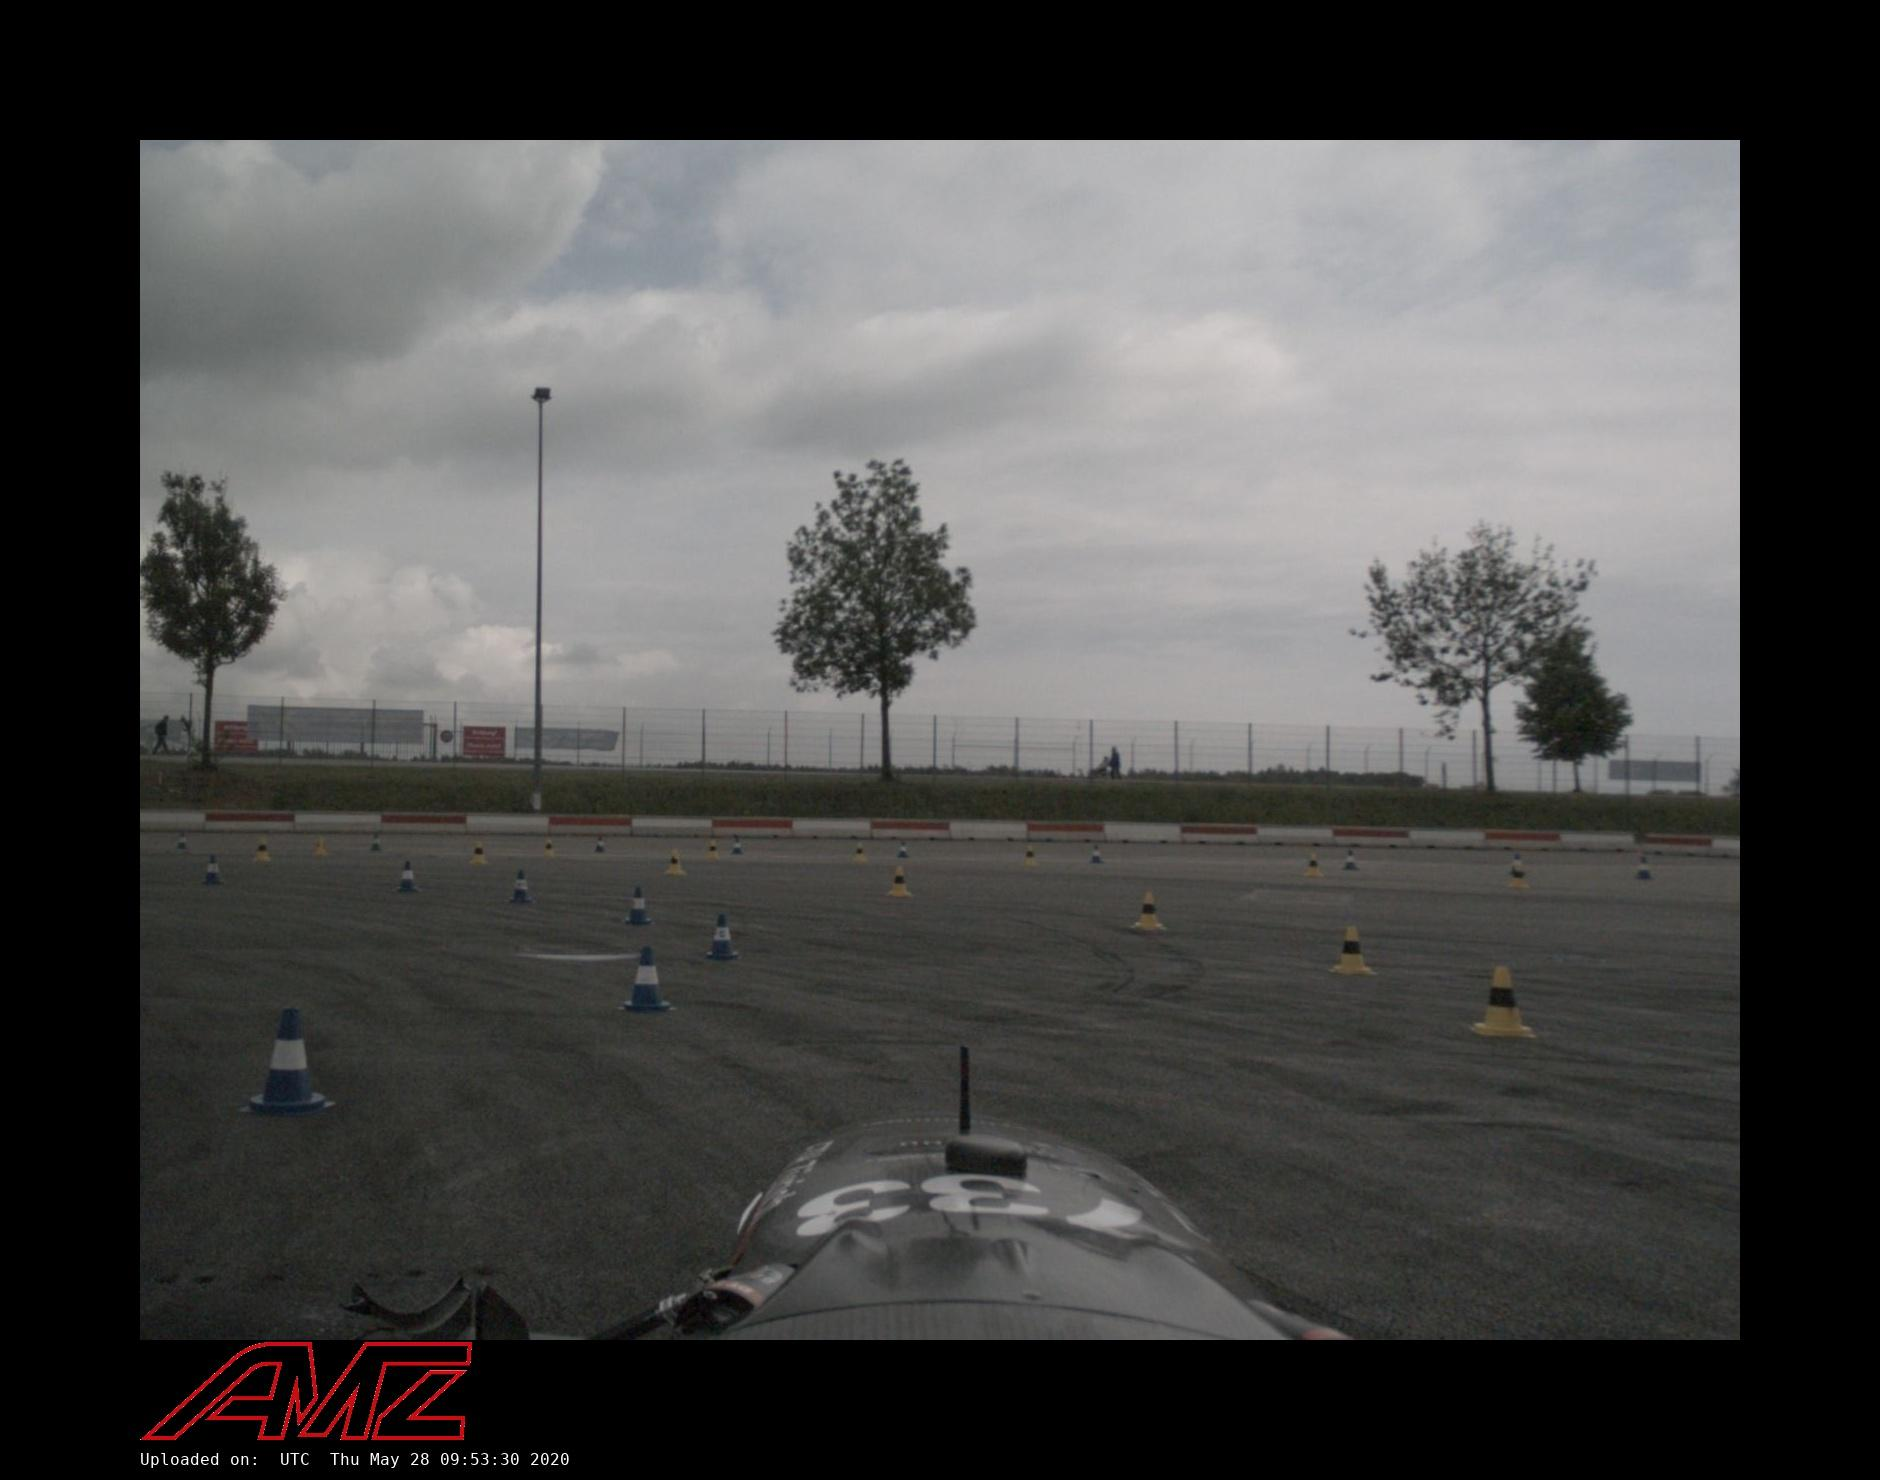blue_cone: (238, 1009, 336, 1117), (616, 946, 678, 1012), (703, 912, 742, 961), (623, 885, 653, 926), (508, 870, 533, 903), (395, 861, 420, 893), (201, 854, 221, 883), (1634, 854, 1654, 880), (1343, 848, 1360, 871), (1088, 844, 1103, 865), (174, 828, 188, 850), (729, 835, 743, 854), (592, 835, 607, 851), (896, 841, 909, 857), (369, 833, 381, 851)
yellow_cone: (1470, 964, 1535, 1038), (1331, 925, 1375, 973), (1131, 893, 1166, 932), (661, 845, 687, 876), (1508, 854, 1531, 886), (890, 864, 909, 896), (252, 838, 272, 862), (468, 841, 488, 864), (1305, 853, 1321, 876), (1022, 844, 1038, 867), (853, 839, 867, 861), (313, 836, 327, 856), (707, 839, 719, 859), (542, 838, 555, 854)
